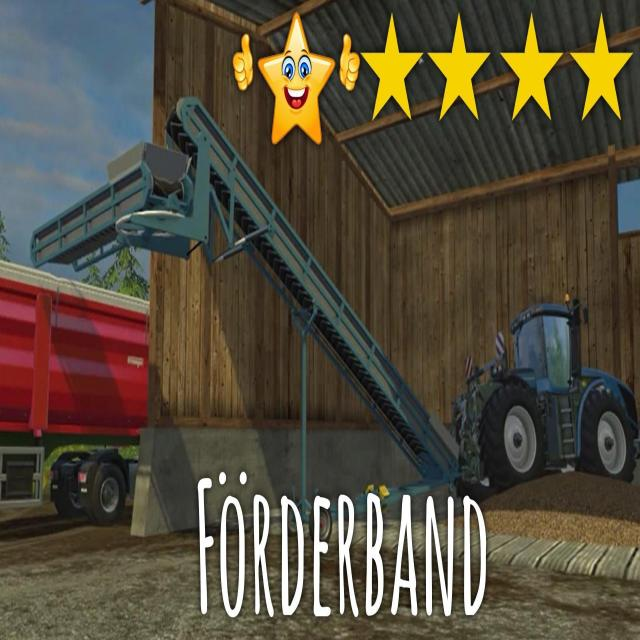conveyor: (72, 76, 501, 491)
